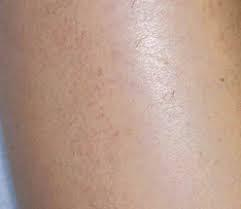Goosebumps: (1, 0, 240, 208)
